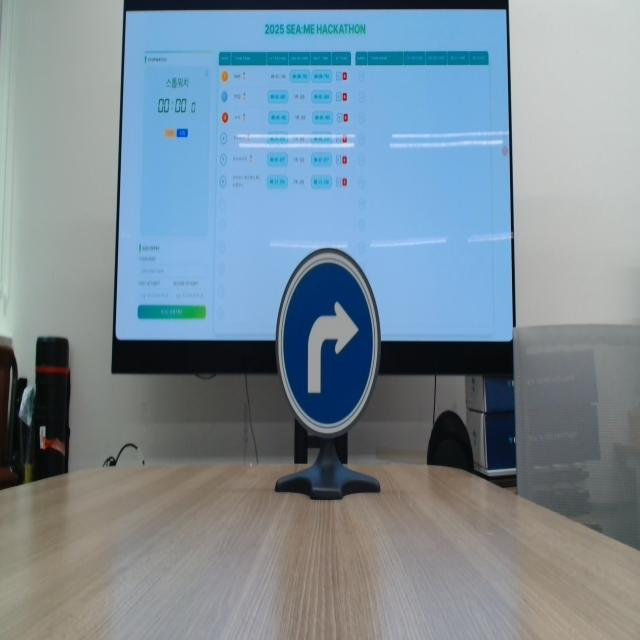right_dierection: (277, 255, 395, 438)
